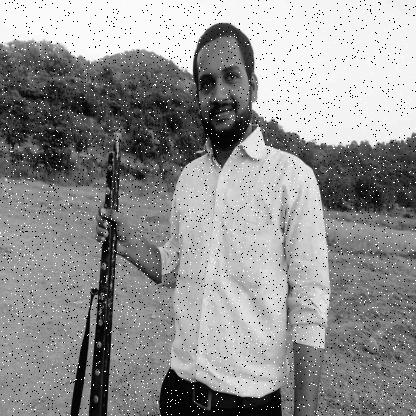rifle: (87, 132, 123, 416)
